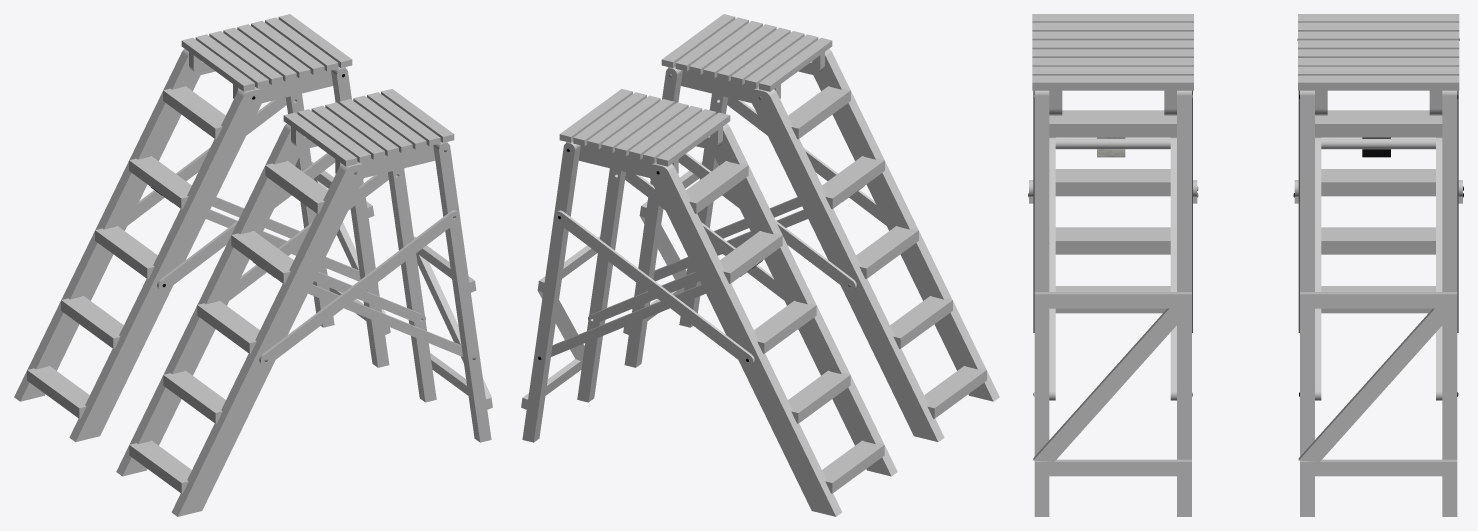
The model's file is Ladder.fbx.
3 views of the same model, side by side, from view 1: azimuth 30°, elevation 25°; view 2: azimuth 150°, elevation 25°; view 3: azimuth 270°, elevation 25° (orthographic). The views are drawn at different scales.
Parts seen in each view (by area): view 1: Scaletta1, Scaletta002; view 2: Scaletta002, Scaletta1; view 3: Scaletta002, Scaletta1.
Part boxes in pixels (bbox=[...]): Scaletta1: bbox=[116, 89, 492, 516]; Scaletta002: bbox=[14, 14, 390, 441]; Scaletta002: bbox=[521, 89, 897, 516]; Scaletta1: bbox=[623, 14, 999, 441]; Scaletta002: bbox=[1294, 14, 1462, 516]; Scaletta1: bbox=[1029, 14, 1197, 516].
Bounding box in the file's own units: 1115 × 1064 × 1025.
